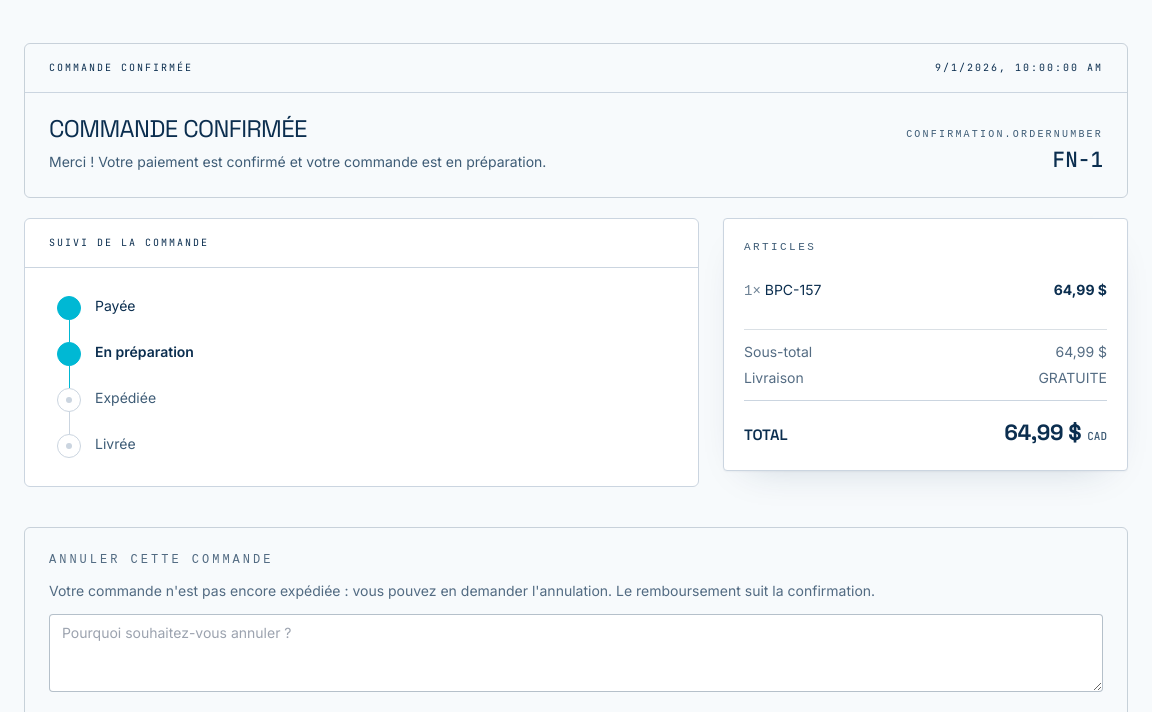
Test: propose l'annulation d'une commande pas encore expediee
Expected: the element with test id "refund-card" shows "Annuler cette commande", top-left (49, 553), bottom-right (273, 567)
In the text box with test id "refund-reason": [576, 653] box top-left (49, 614), bottom-right (1103, 692), type "Je me suis trompé de dosage"
(page scrolled)
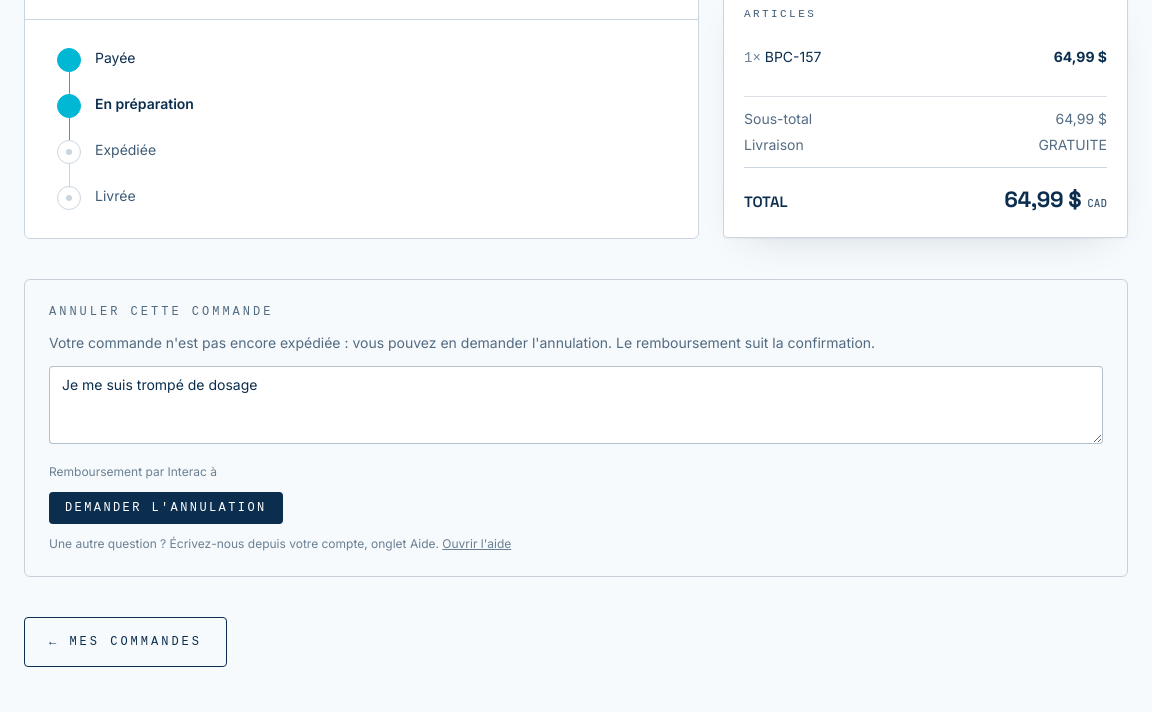
Click the button with test id "refund-submit": [166, 508] box top-left (49, 492), bottom-right (283, 524)
(page scrolled)
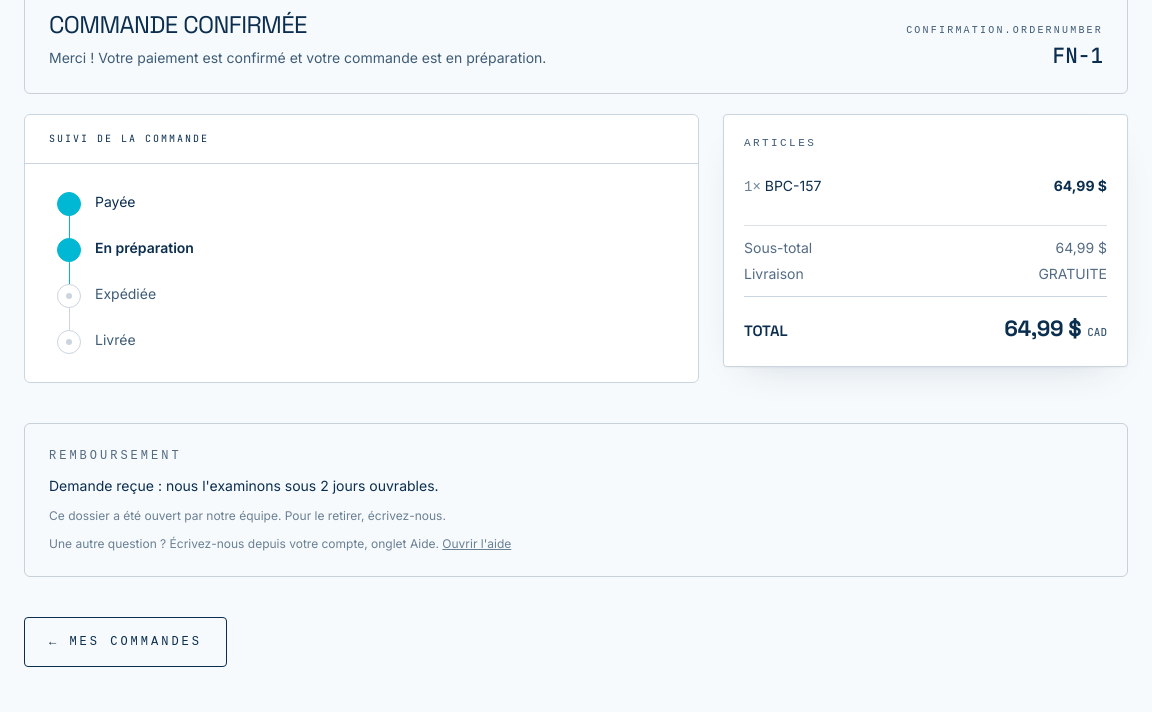
Now the text with test id "refund-status" shows "Demande reçue", box top-left (49, 477), bottom-right (439, 494)
